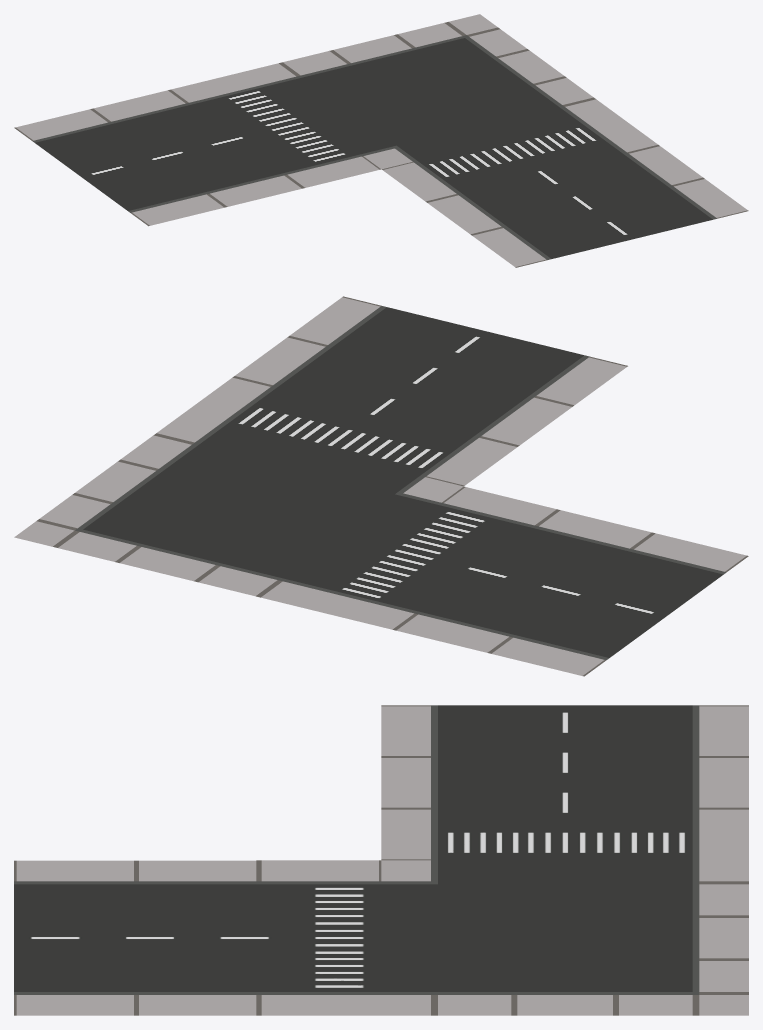
The model's file is road cross3.FBX.
3 renders of one model, top to bottom at view 1: azimuth 30°, elevation 25°; view 2: azimuth 150°, elevation 25°; view 3: azimuth 270°, elevation 25°, orthographic. The views are drawn at different scales.
Visible parts, largest first — view 1: road cross3; view 2: road cross3; view 3: road cross3.
Boxes of the visible parts, x1,y1,x2,y2 form: road cross3: (14, 14, 748, 267); road cross3: (14, 296, 748, 676); road cross3: (14, 705, 748, 1015).
Size of the model in its own units: 40 by 1.75e-06 by 40.
